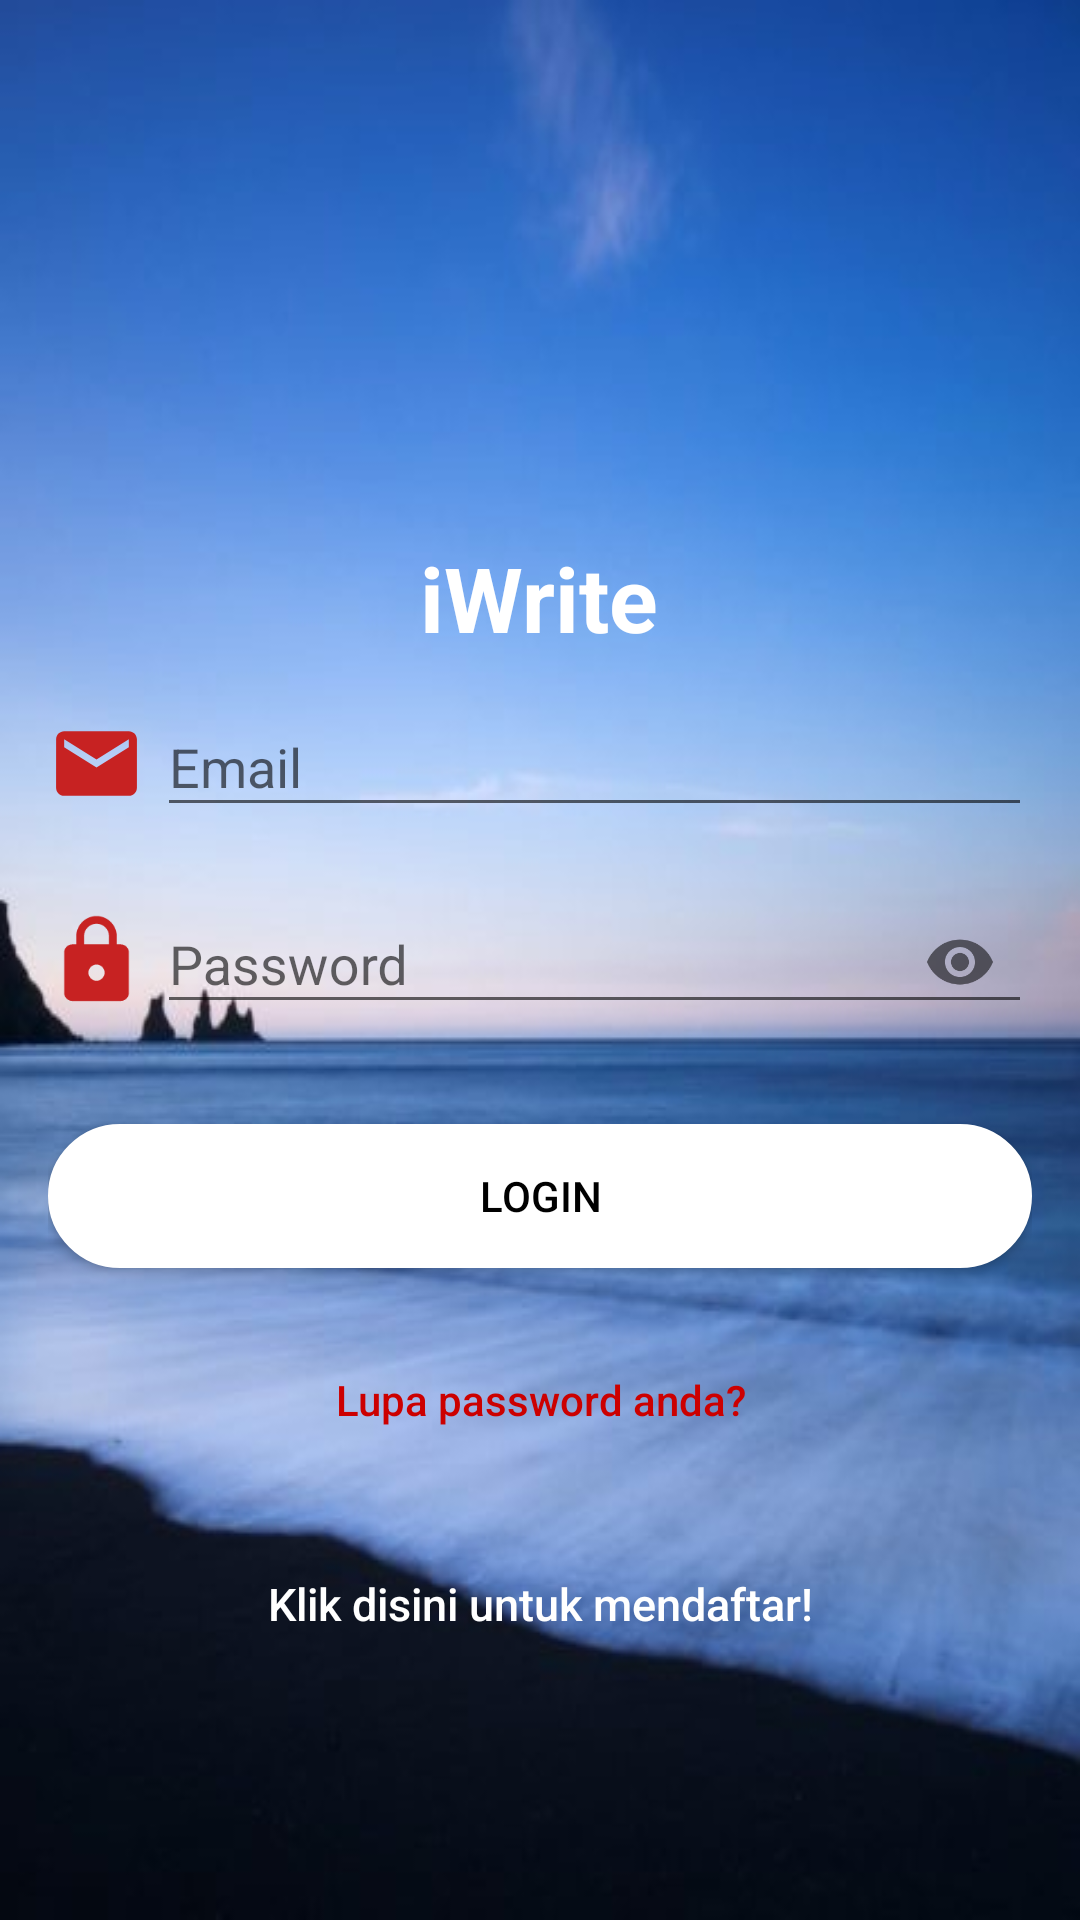

Where to tap for icons on this 1080w x 1920h app screen, as (x=x, y=y):
lock: (x=96, y=960)
